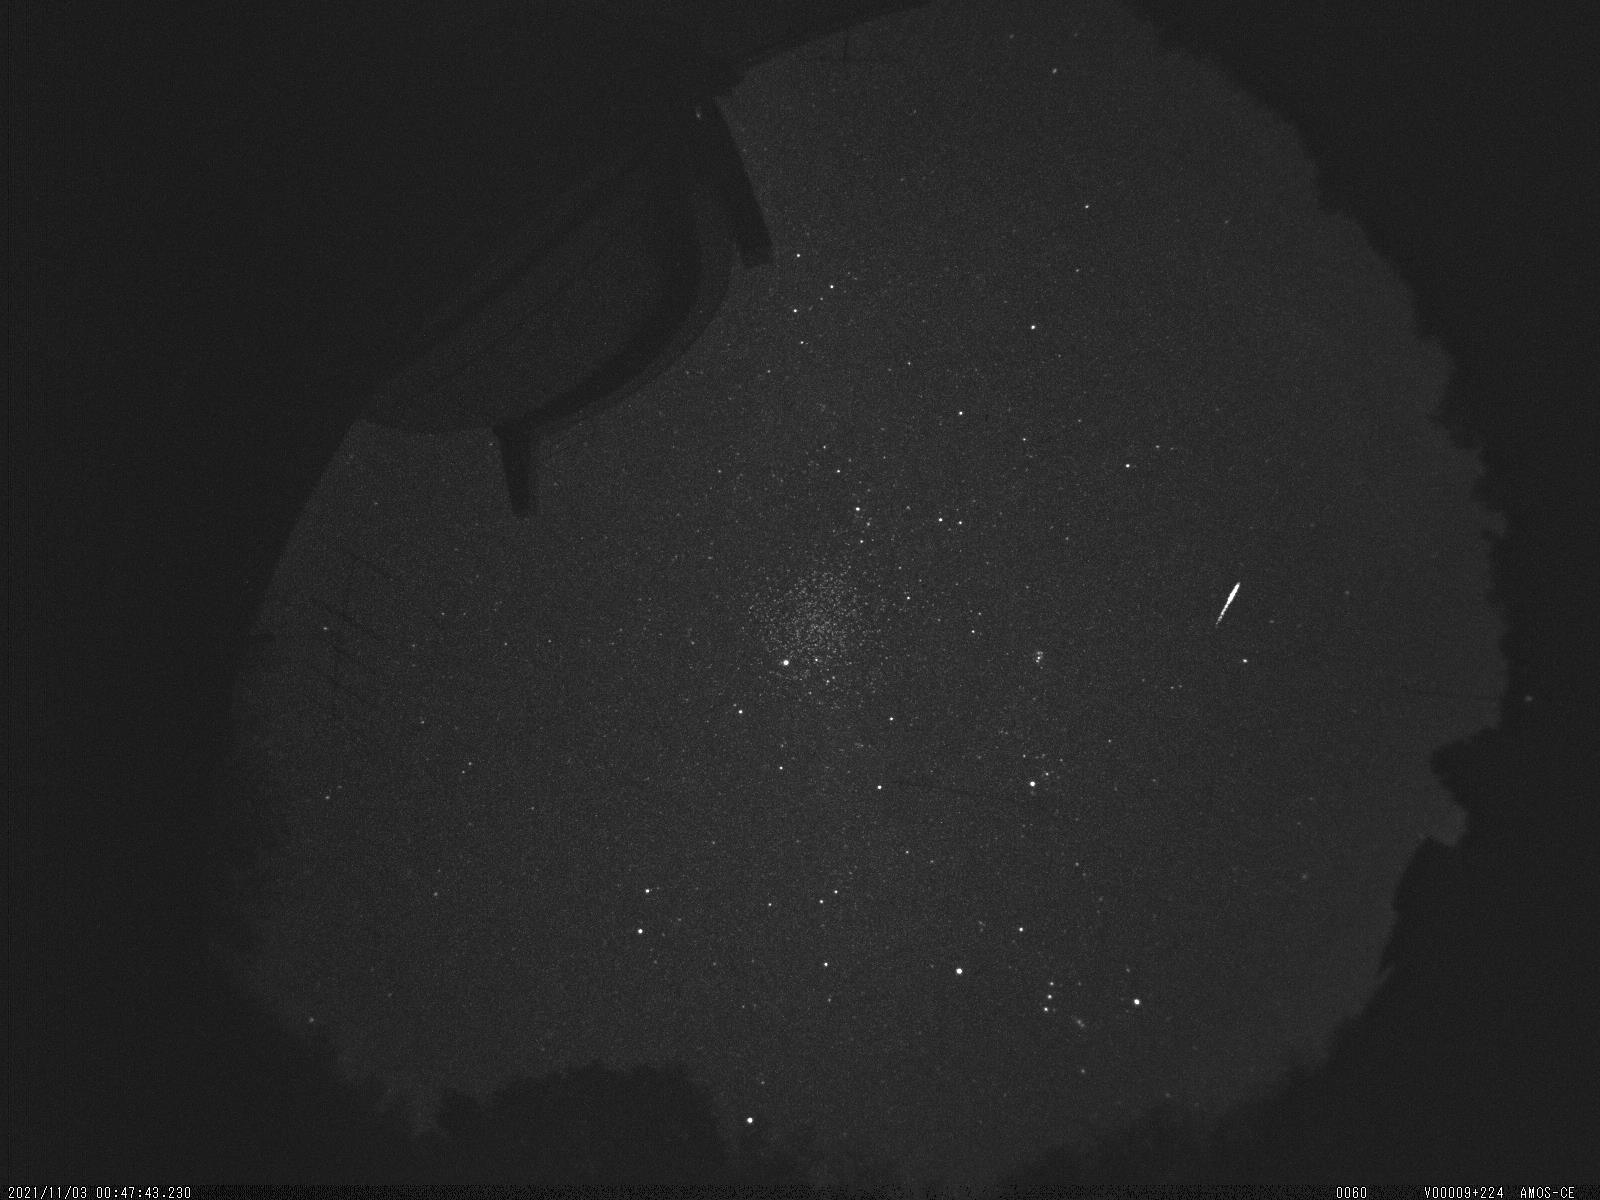Meteor: (1202, 572, 1250, 637)
